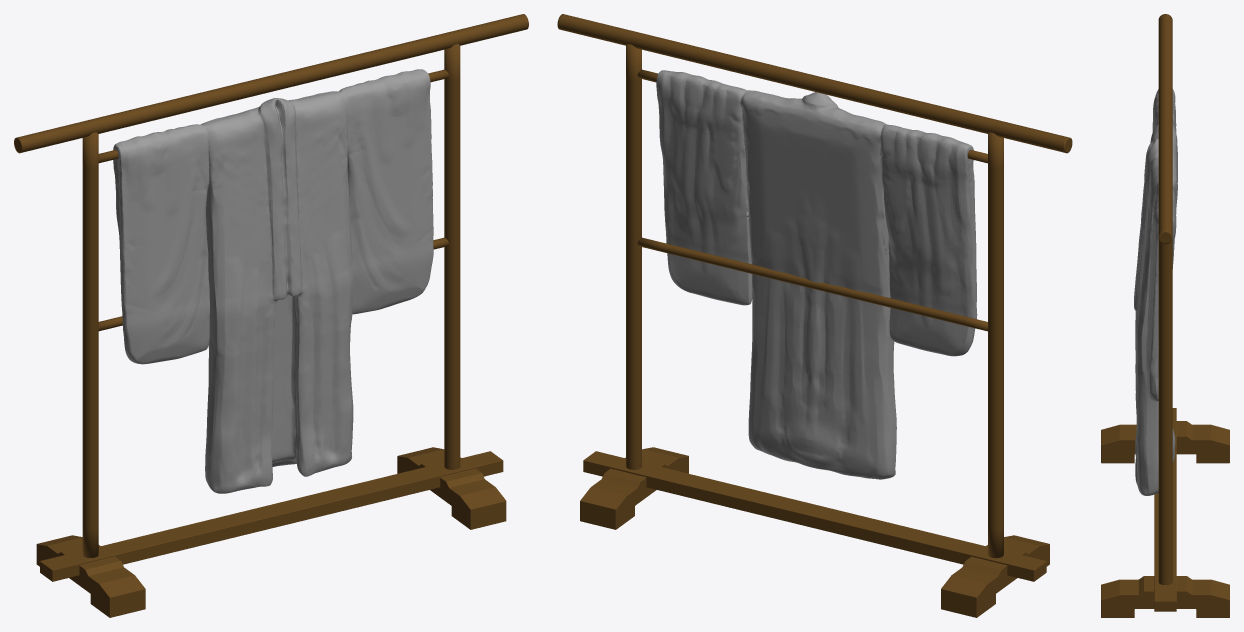
Rendered from obj_kimono_stand_f67608.glb.
3 views of the same model, side by side, from view 1: azimuth 30°, elevation 25°; view 2: azimuth 150°, elevation 25°; view 3: azimuth 270°, elevation 25° (orthographic). The views are drawn at different scales.
Parts seen in each view (by area): view 1: obj_kimono_stand_f67608; view 2: obj_kimono_stand_f67608; view 3: obj_kimono_stand_f67608.
Part boxes in pixels (<box>): obj_kimono_stand_f67608: <box>14,14,528,617</box>; obj_kimono_stand_f67608: <box>557,14,1072,617</box>; obj_kimono_stand_f67608: <box>1101,14,1229,617</box>.
Size of the model in its own units: 0.6 by 0.5276 by 0.1502.
